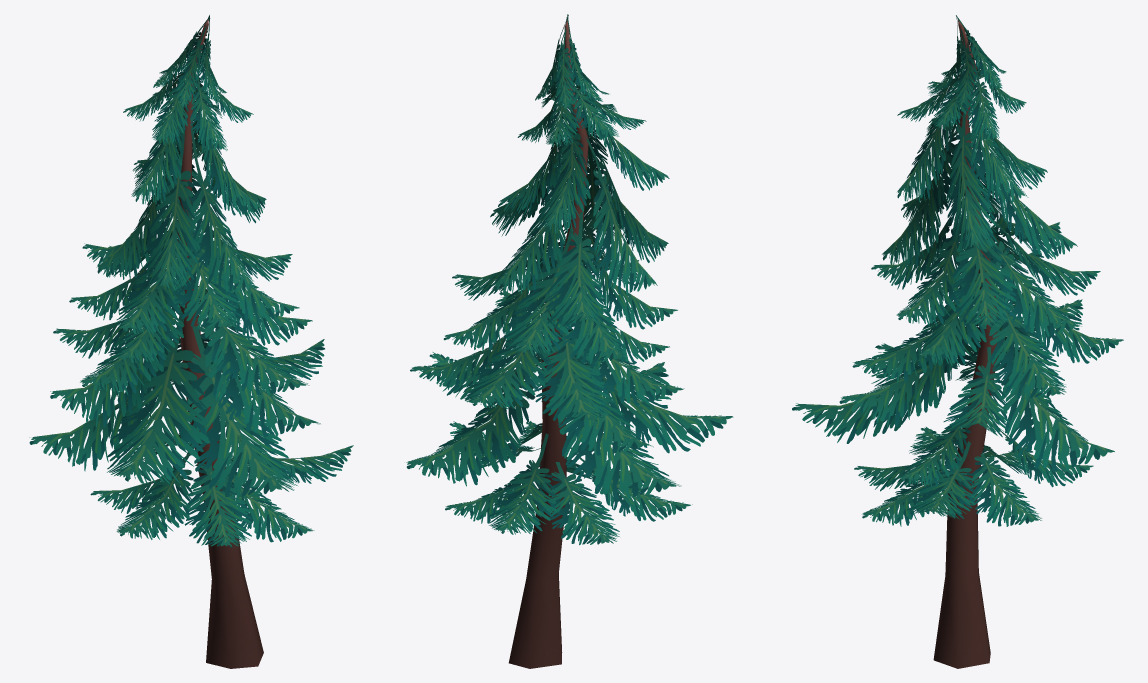
Rendered from Pine_Tree_1F.fbx.
3 renders of one model, left to right at view 1: azimuth 30°, elevation 25°; view 2: azimuth 150°, elevation 25°; view 3: azimuth 270°, elevation 25°, orthographic. The views are drawn at different scales.
Visible parts, largest first — view 1: Pine_Tree_1F; view 2: Pine_Tree_1F; view 3: Pine_Tree_1F.
Part boxes in pixels (x1,y1,x2,y2): Pine_Tree_1F: [29, 15, 353, 668]; Pine_Tree_1F: [406, 14, 733, 668]; Pine_Tree_1F: [792, 15, 1123, 668].
Bounding box in the file's own units: 284 × 596 × 307.
